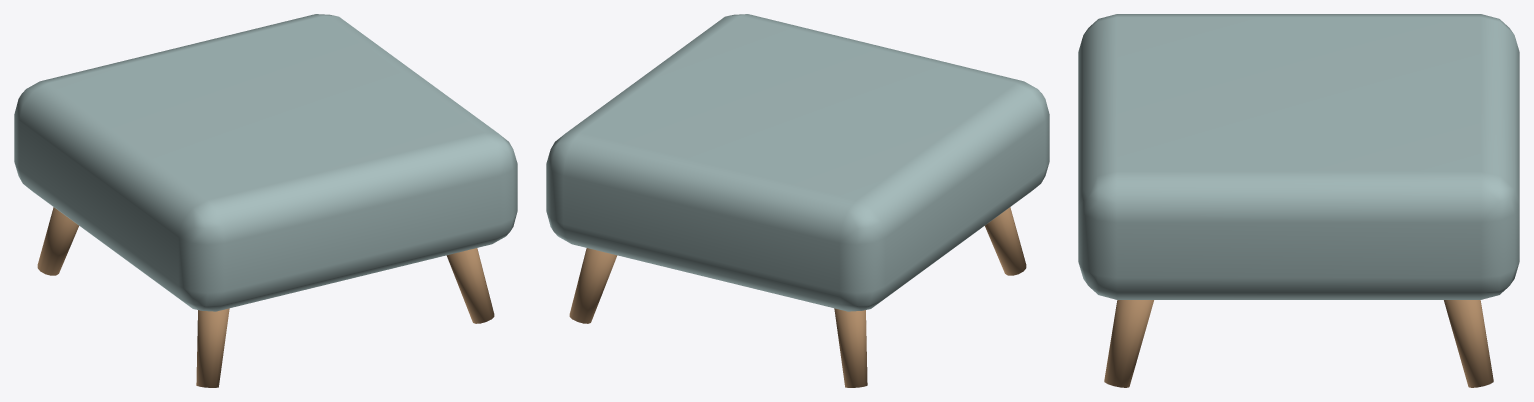
File: atelier-footstool.glb
3 views of the same model, side by side, from view 1: azimuth 30°, elevation 25°; view 2: azimuth 150°, elevation 25°; view 3: azimuth 270°, elevation 25° (orthographic). The views are drawn at different scales.
Visible parts, largest first — view 1: fabric.019, legs.016; view 2: fabric.019, legs.016; view 3: fabric.019, legs.016.
Part boxes in pixels (x1,y1,x2,y2): fabric.019: (14, 14, 517, 311); legs.016: (37, 207, 494, 387); fabric.019: (546, 14, 1049, 311); legs.016: (569, 207, 1026, 387); fabric.019: (1078, 14, 1519, 299); legs.016: (1104, 300, 1493, 387).
Size of the model in its own units: 0.56 by 0.3025 by 0.56.
